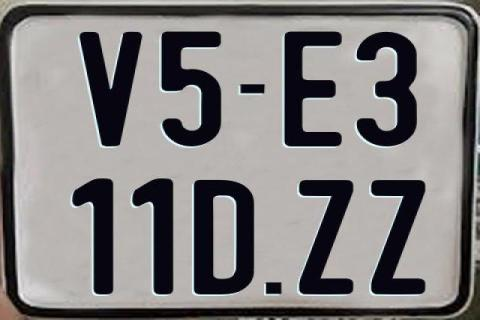0: (354, 31, 420, 148), (158, 30, 222, 148), (129, 176, 173, 297), (69, 179, 111, 299)
D: (192, 178, 254, 296)
E: (282, 30, 342, 148)
V: (78, 32, 140, 147)
Z: (297, 179, 354, 295), (369, 179, 425, 293)
